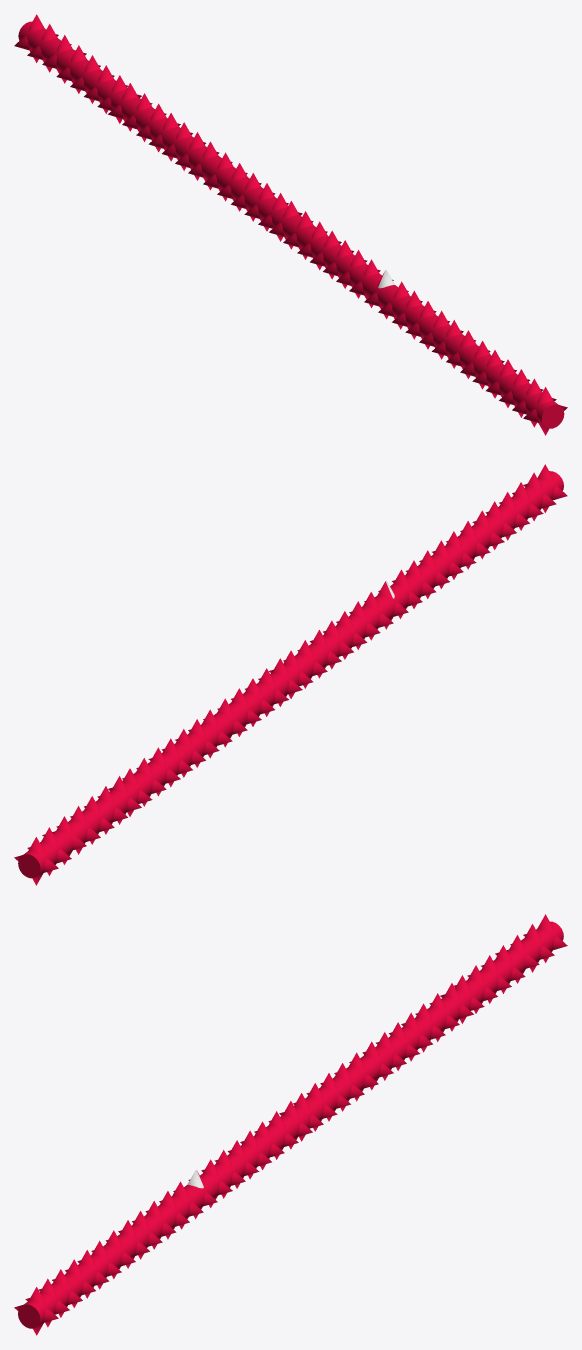
The model's file is stickObstale.fbx.
3 renders of one model, top to bottom at view 1: azimuth 30°, elevation 25°; view 2: azimuth 150°, elevation 25°; view 3: azimuth 330°, elevation 25°, orthographic.
Parts seen in each view (by area): view 1: pCylinder1; view 2: pCylinder1; view 3: pCylinder1.
Boxes of the visible parts, box(x1,y1,x2,y2) form: pCylinder1: box(18, 21, 564, 428); pCylinder1: box(18, 471, 563, 878); pCylinder1: box(18, 921, 563, 1328).
Size of the model in its own units: 1.18 by 1.23 by 23.7.
